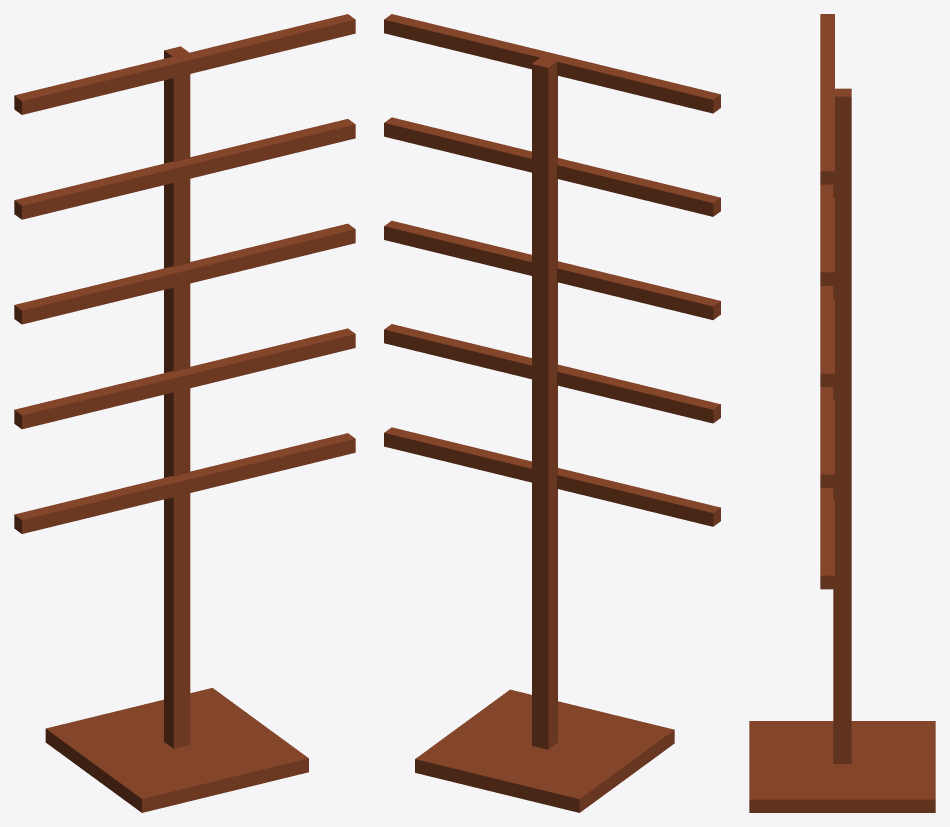
Rendered from digital_tree.dae.
The picture shows the model from 3 angles, left to right: view 1: azimuth 30°, elevation 25°; view 2: azimuth 150°, elevation 25°; view 3: azimuth 270°, elevation 25°; orthographic projection. The views are drawn at different scales.
Visible parts, largest first — view 1: Cube.001, Cube, Cube.007, Cube.002, Cube.010, Cube.009, Cube.008; view 2: Cube, Cube.001, Cube.007, Cube.010, Cube.009, Cube.002, Cube.008; view 3: Cube.001, Cube, Cube.007, Cube.008, Cube.002, Cube.010, Cube.009.
Part boxes in pixels (x1,y1,x2,y2): Cube.001: (45, 688, 308, 812); Cube: (164, 46, 190, 748); Cube.007: (14, 14, 355, 114); Cube.002: (14, 119, 355, 219); Cube.010: (14, 223, 355, 324); Cube.009: (14, 328, 355, 429); Cube.008: (14, 433, 355, 533); Cube: (532, 57, 557, 749); Cube.001: (415, 689, 674, 812); Cube.007: (384, 14, 720, 113); Cube.010: (384, 220, 720, 319); Cube.009: (384, 324, 720, 423); Cube.002: (384, 117, 720, 216); Cube.008: (384, 427, 720, 526); Cube.001: (749, 721, 935, 812); Cube: (833, 88, 851, 763); Cube.007: (820, 14, 834, 184); Cube.008: (820, 488, 834, 589); Cube.002: (820, 184, 834, 285); Cube.010: (820, 286, 834, 386); Cube.009: (820, 387, 834, 487).
Size of the model in its own units: 1 by 0.5 by 2.02.
